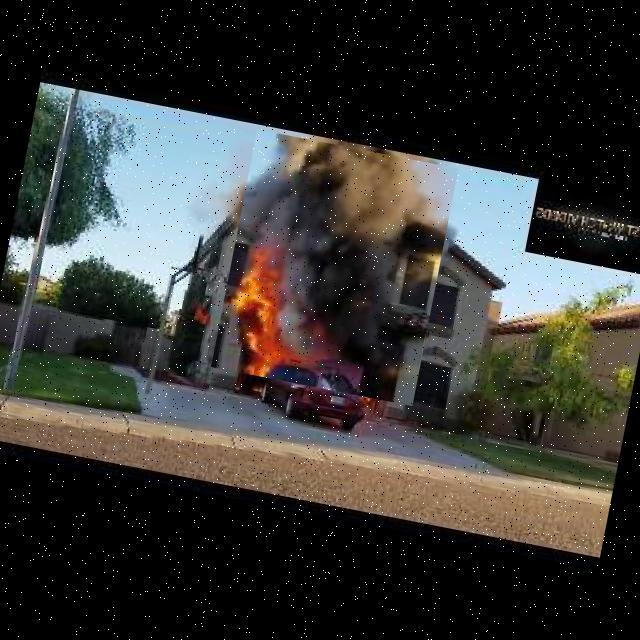fire: (211, 130, 458, 406)
